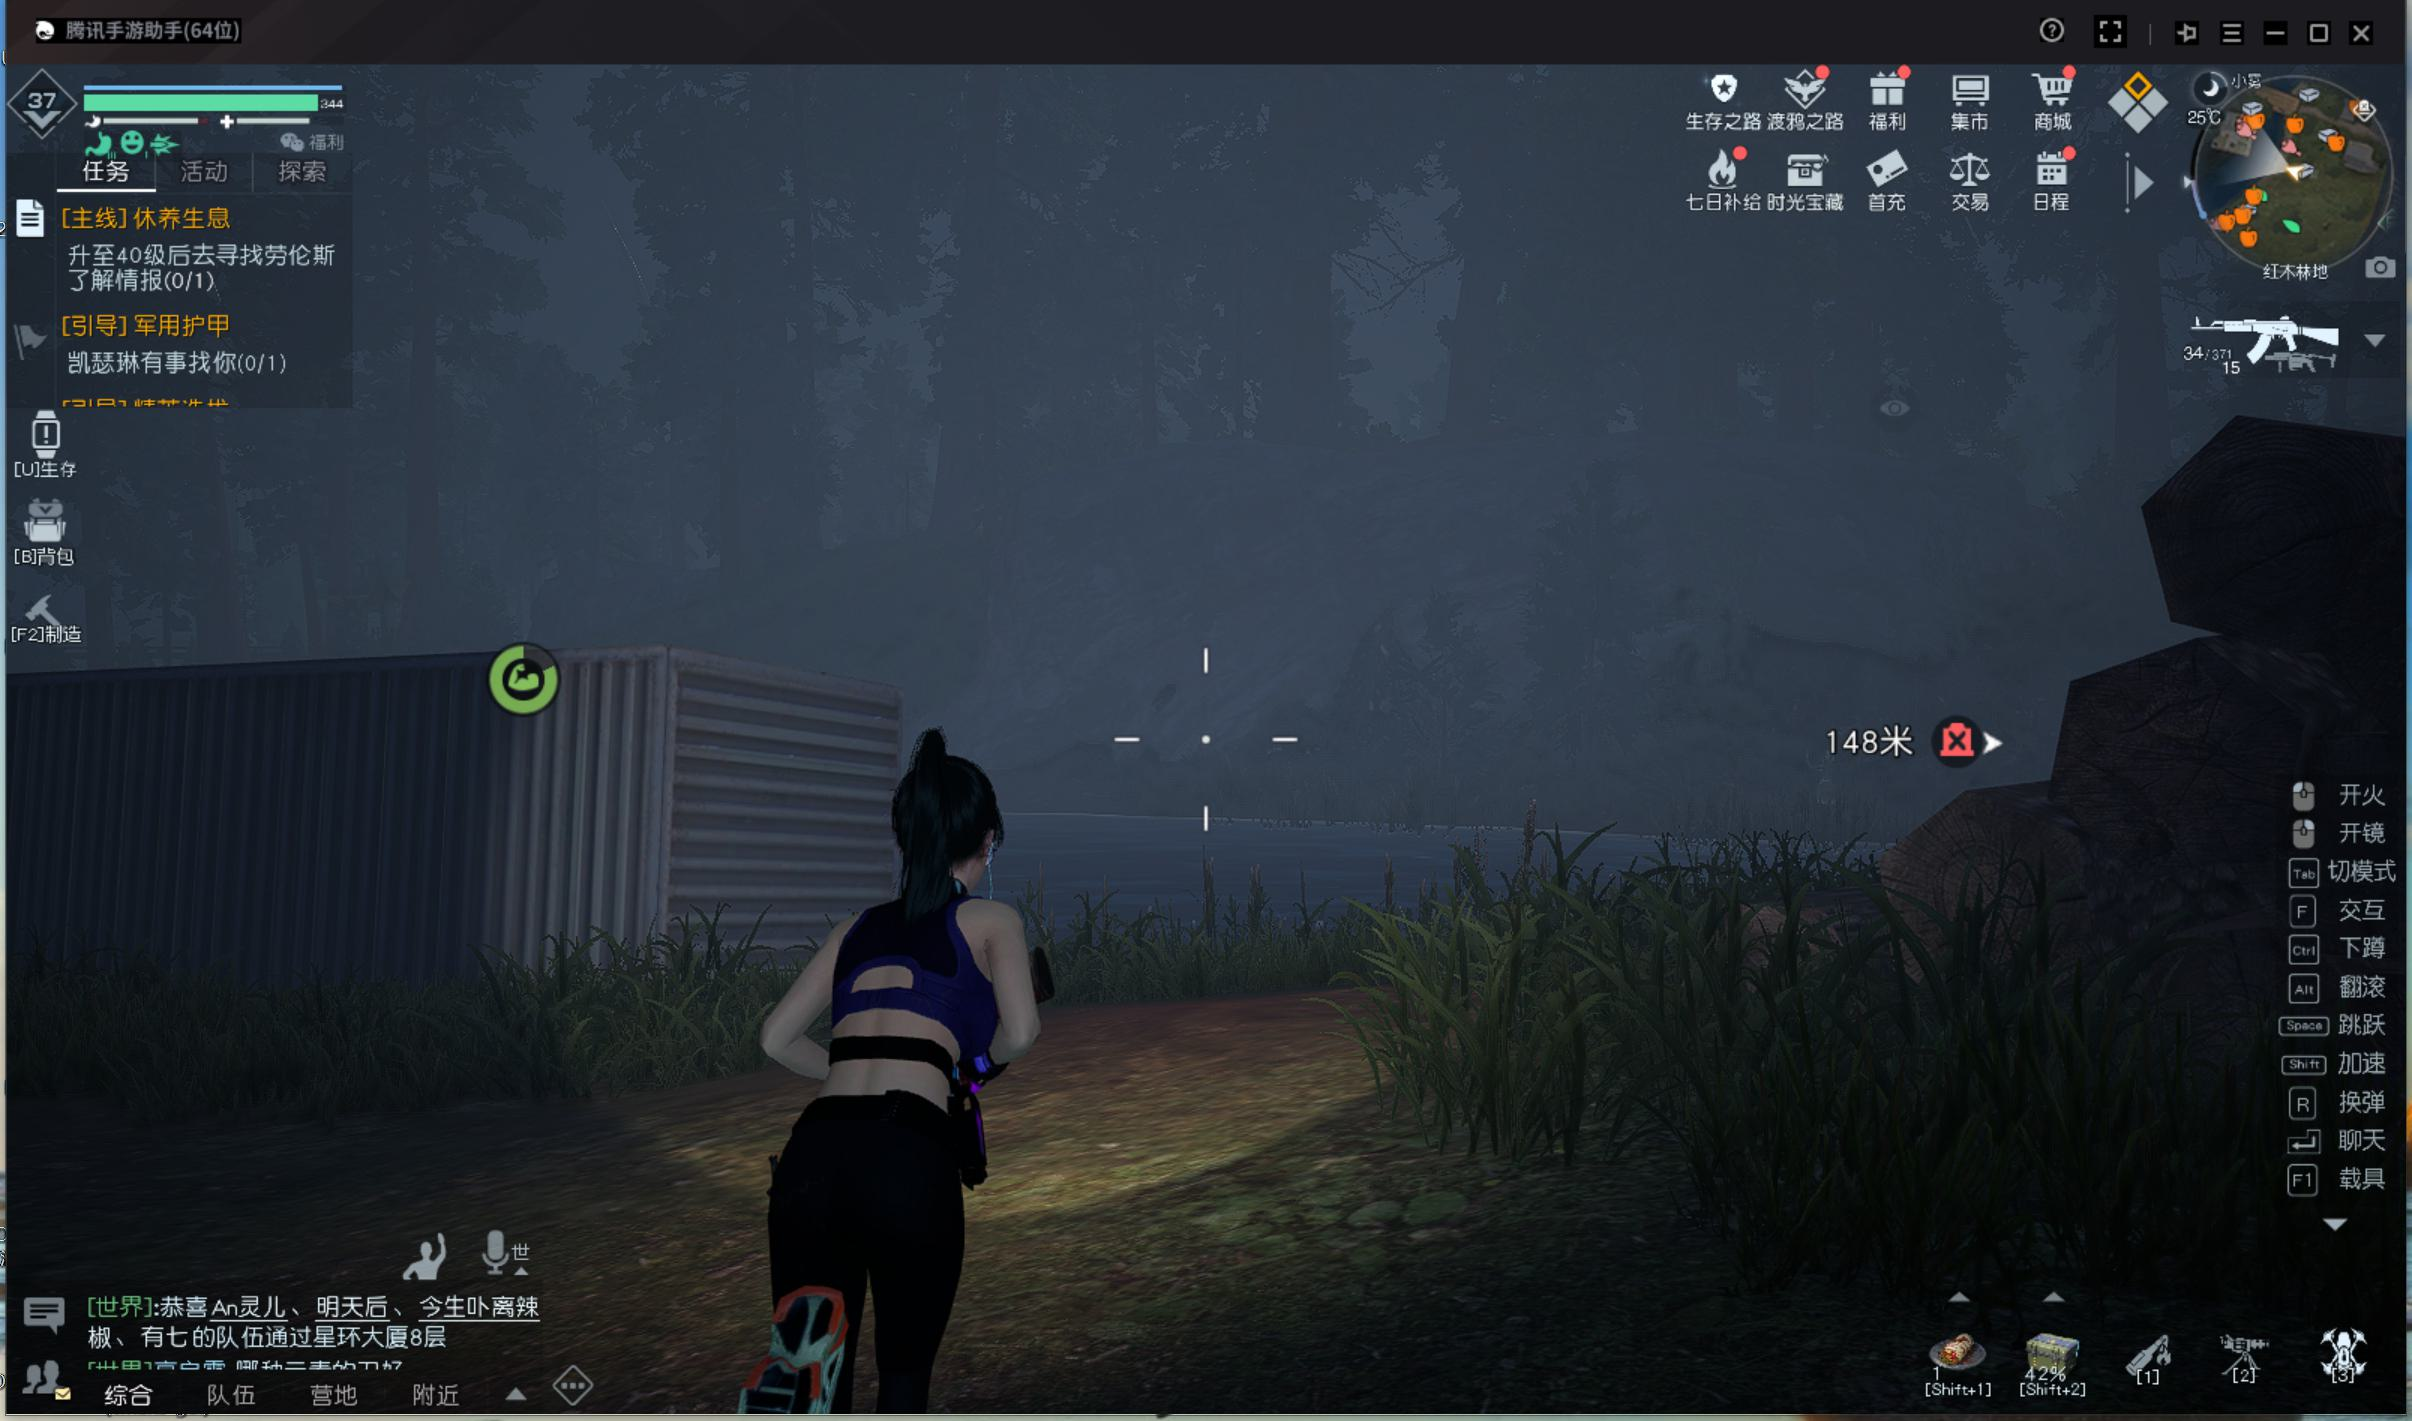tree: (392, 328, 457, 639), (2087, 284, 2168, 528), (695, 362, 753, 638)
